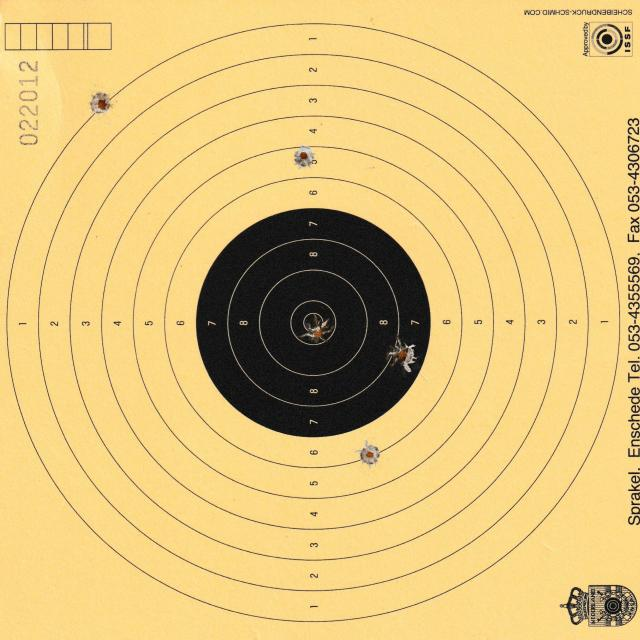1: (86, 90, 115, 117)
10: (305, 320, 331, 344)
5: (292, 146, 318, 170)
6: (357, 444, 386, 468)
8: (392, 343, 420, 371)
Target: (7, 22, 622, 624)
black_contour: (195, 207, 432, 437)
